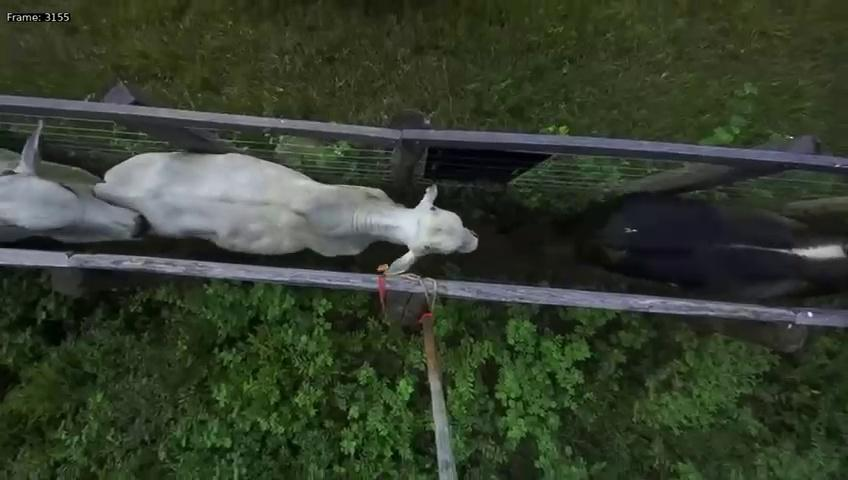cattle: (99, 144, 481, 280)
